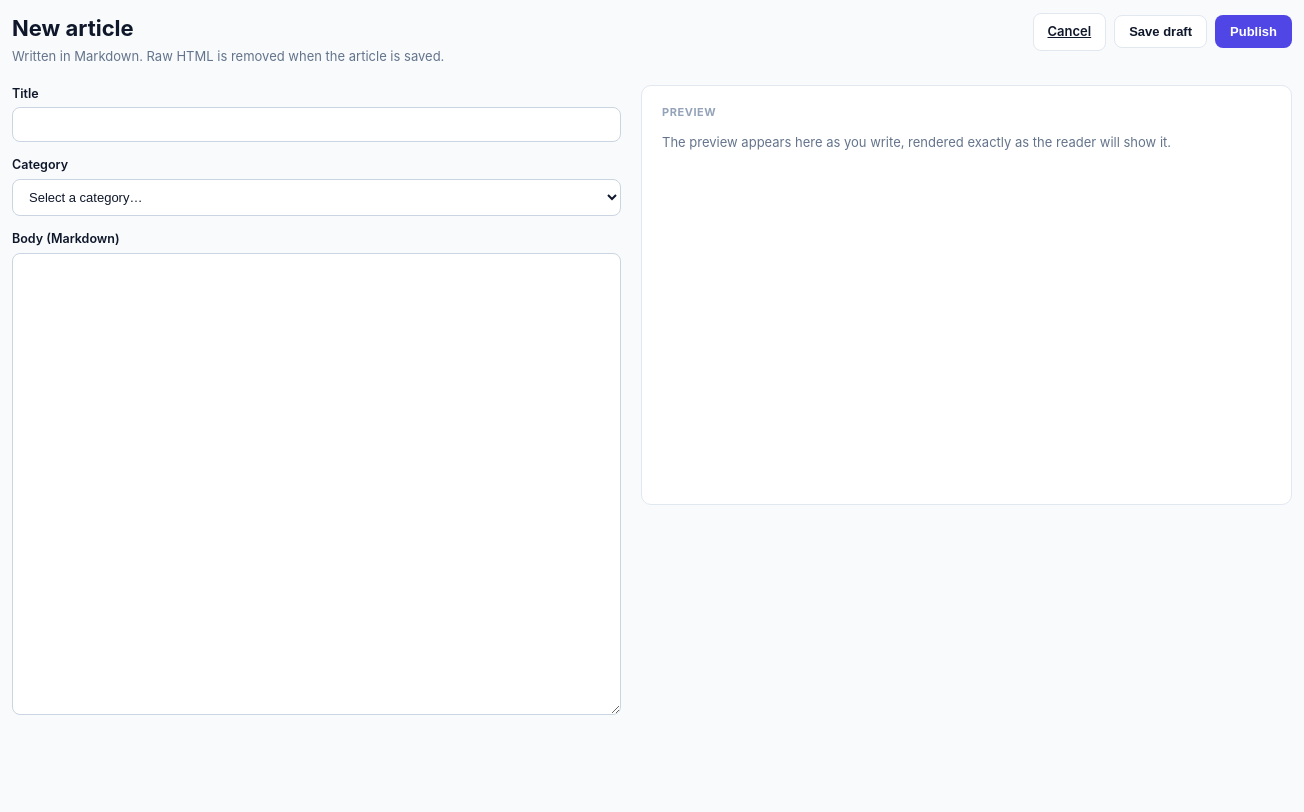
Test case: ArticleEditorPage › blocks Publish without a body
In the field labelled "Title": (316, 125) [12, 107, 621, 142], type "A title"
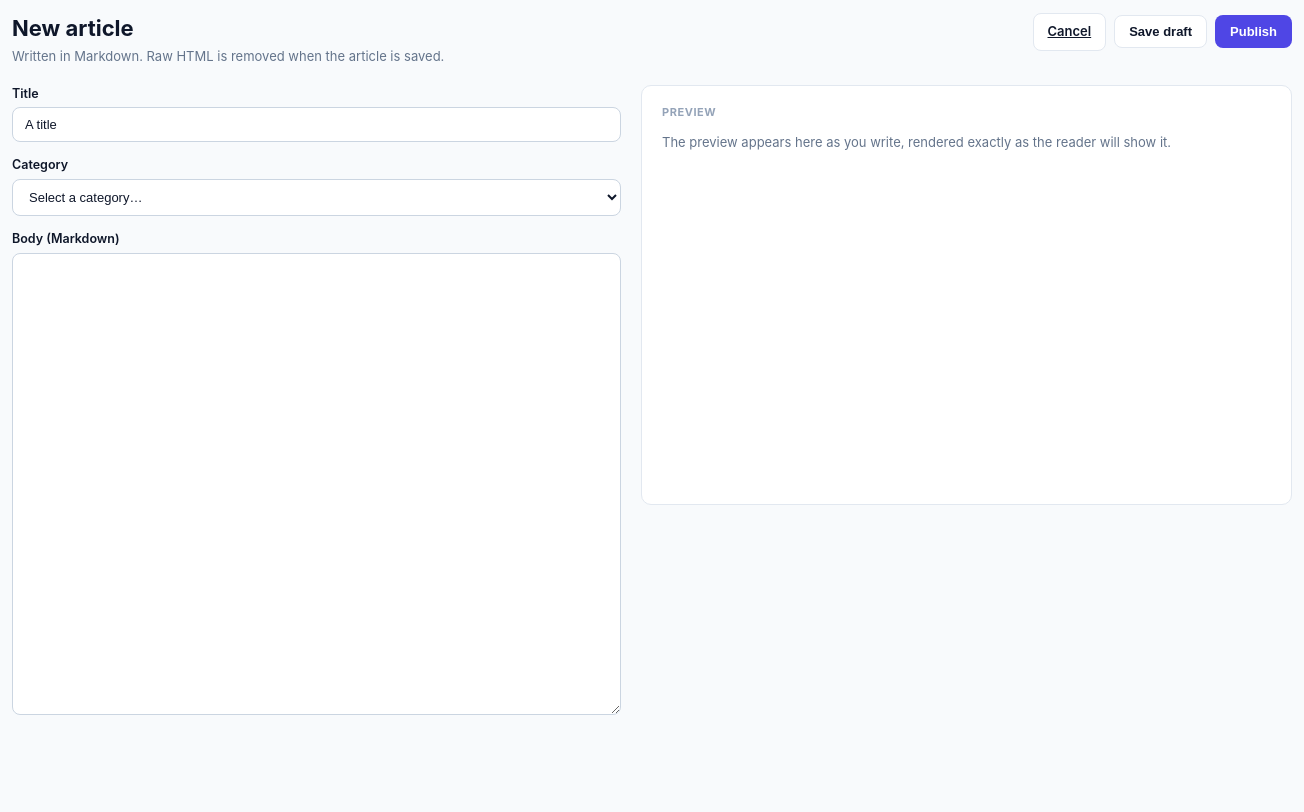
Select "Account & Access" in the dropdown labelled "Category": (316, 198) [12, 179, 621, 216]
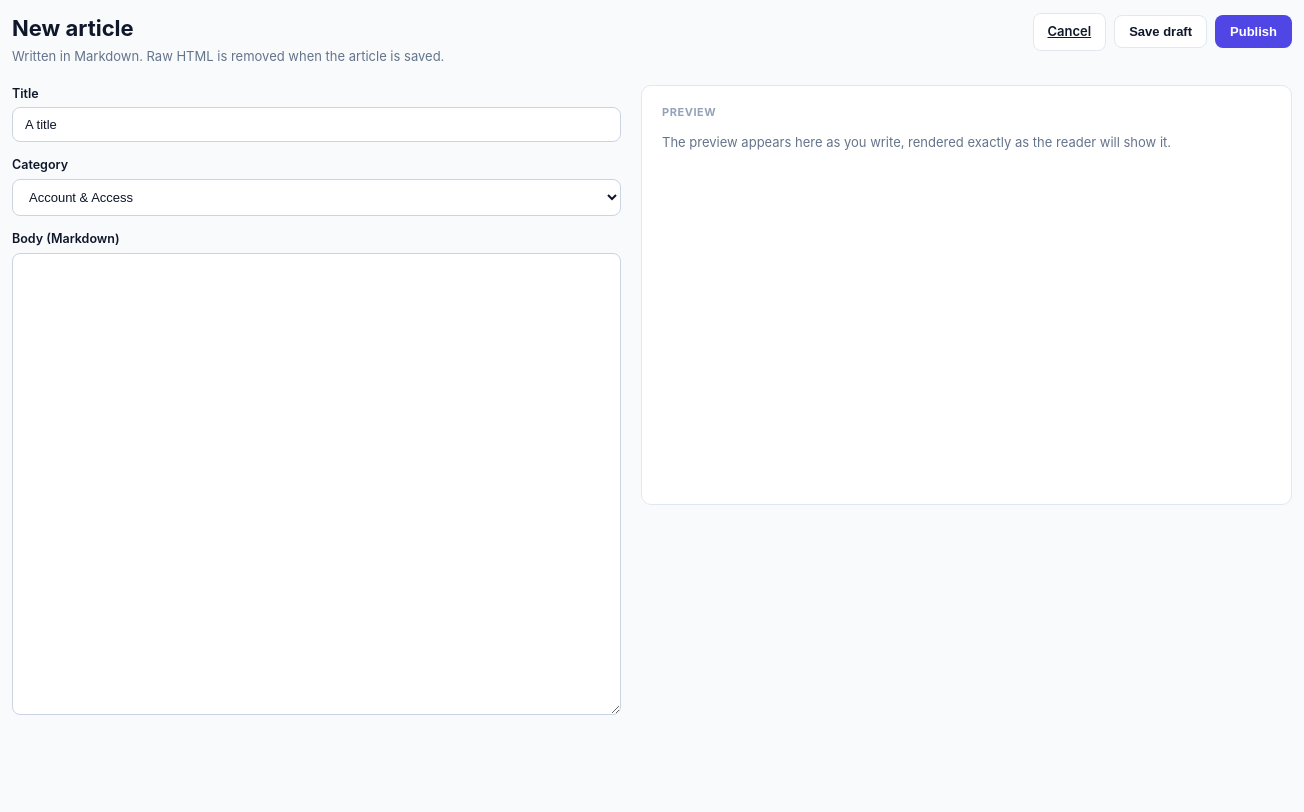
Click the button "Publish": click(1254, 32) [1215, 15, 1292, 48]
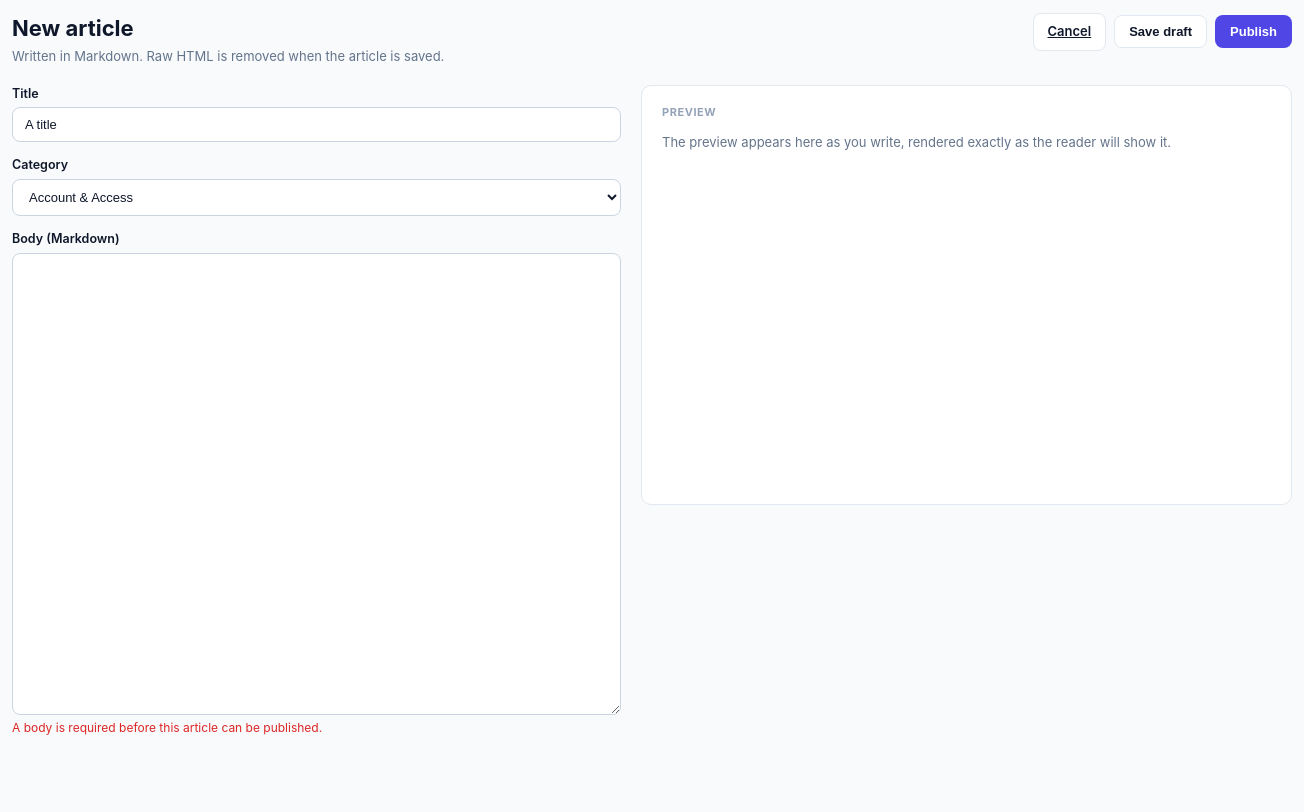
Expected: the text "A body is required before this article can be published." is shown, [12, 720, 322, 735]
